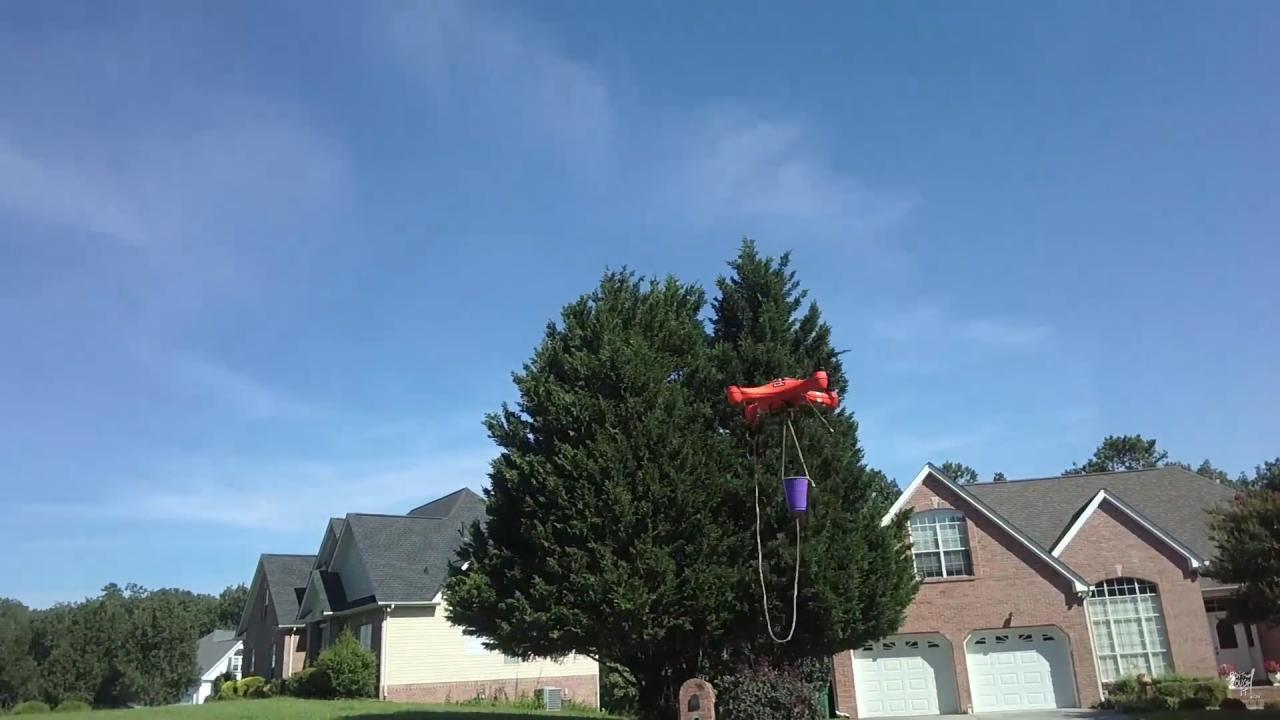Drone: (705, 348, 860, 435)
